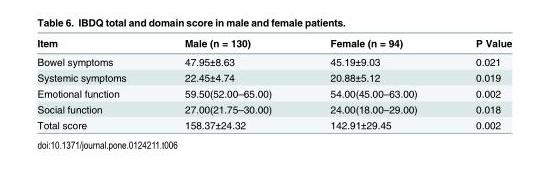table: (36, 36, 511, 130)
table column: (154, 36, 300, 130), (300, 36, 445, 130), (36, 36, 154, 130), (445, 36, 511, 130)
table column header: (36, 36, 511, 52)
table row: (36, 52, 511, 69), (36, 36, 511, 52), (36, 69, 511, 85), (36, 100, 511, 116), (36, 85, 511, 100), (36, 116, 511, 130)
